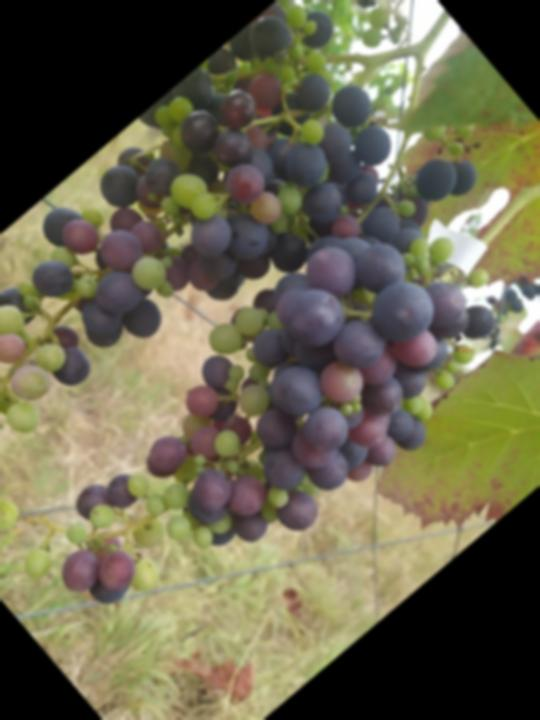grape: (0, 159, 540, 697), (0, 0, 510, 544)
